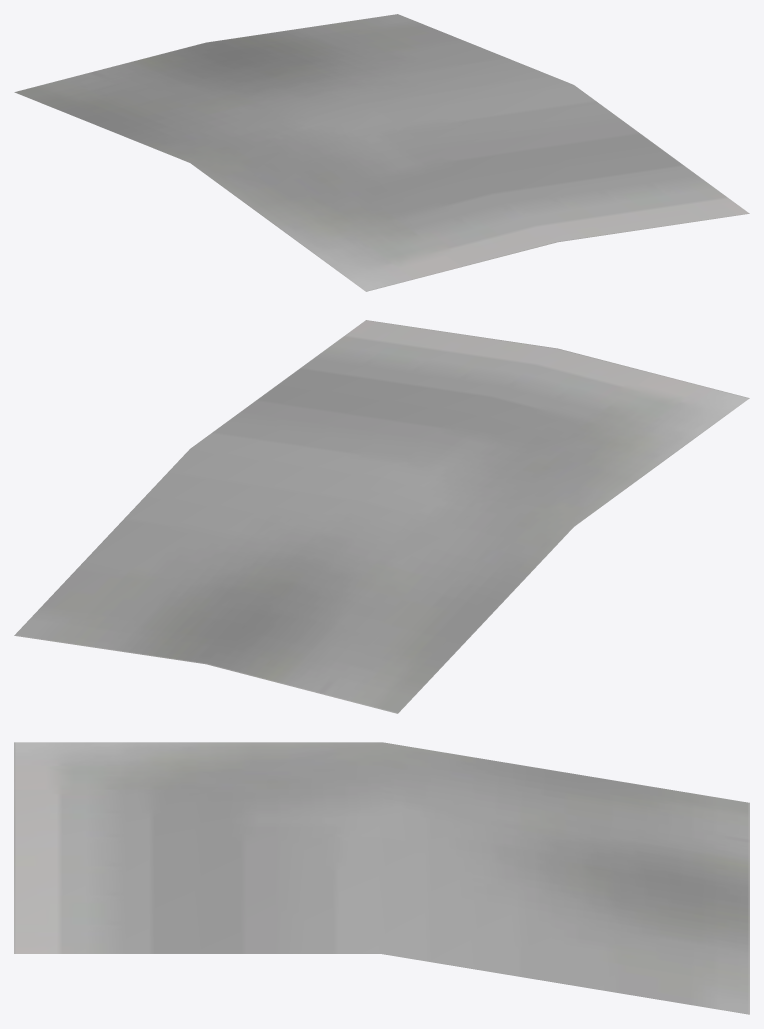
3 views of the same model, one above another, from view 1: azimuth 30°, elevation 25°; view 2: azimuth 150°, elevation 25°; view 3: azimuth 270°, elevation 25° (orthographic). The views are drawn at different scales.
Parts seen in each view (by area): view 1: model_Object18; view 2: model_Object18; view 3: model_Object18.
Boxes of the visible parts, x1,y1,x2,y2 form: model_Object18: [14, 14, 749, 291]; model_Object18: [14, 320, 749, 713]; model_Object18: [14, 742, 749, 1014].
Bounding box in the file's own units: 1.83 × 0.3482 × 2.91.
Materials: 1 (1 with a texture image).
